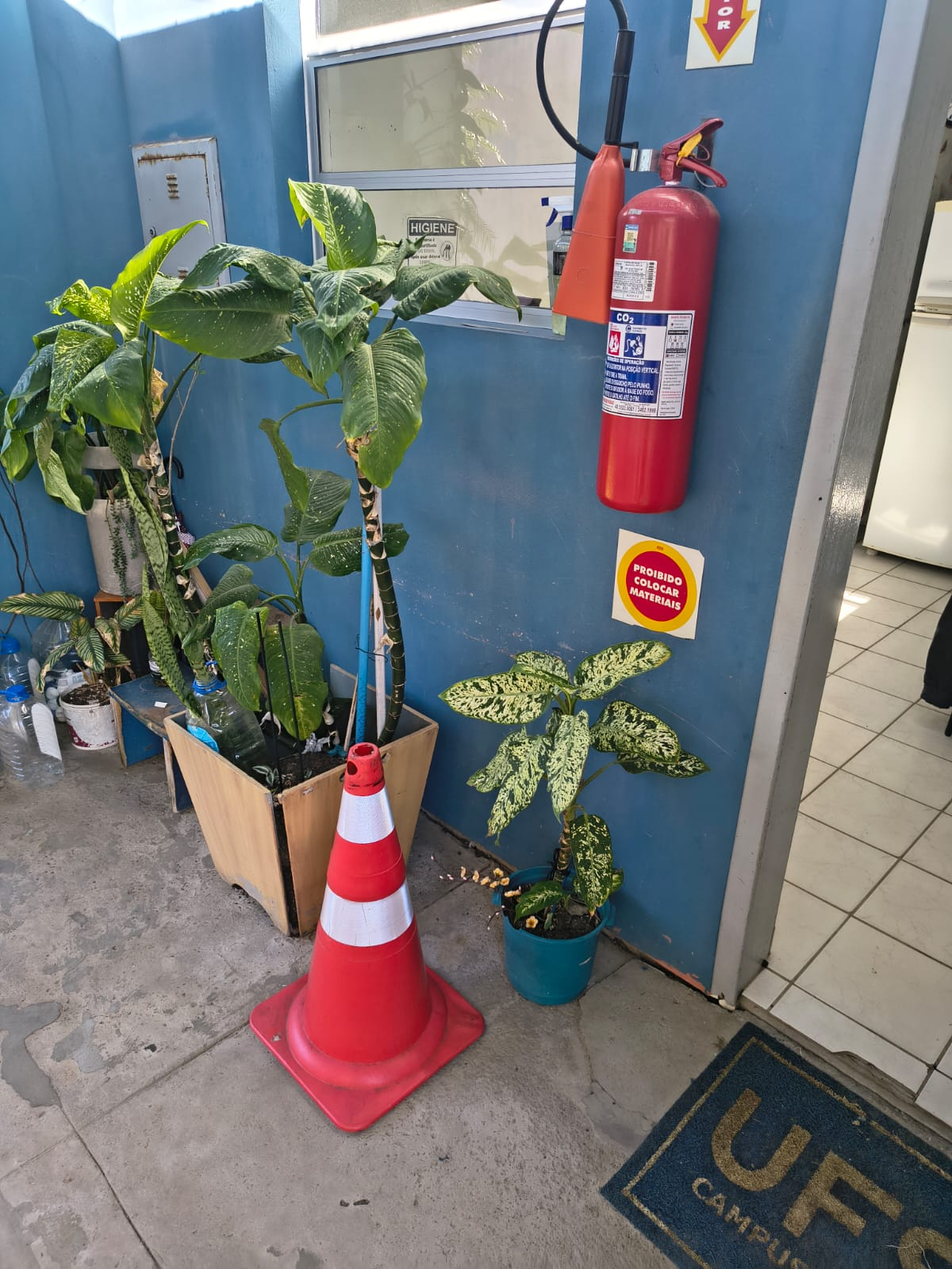cone: (249, 743, 489, 1118)
